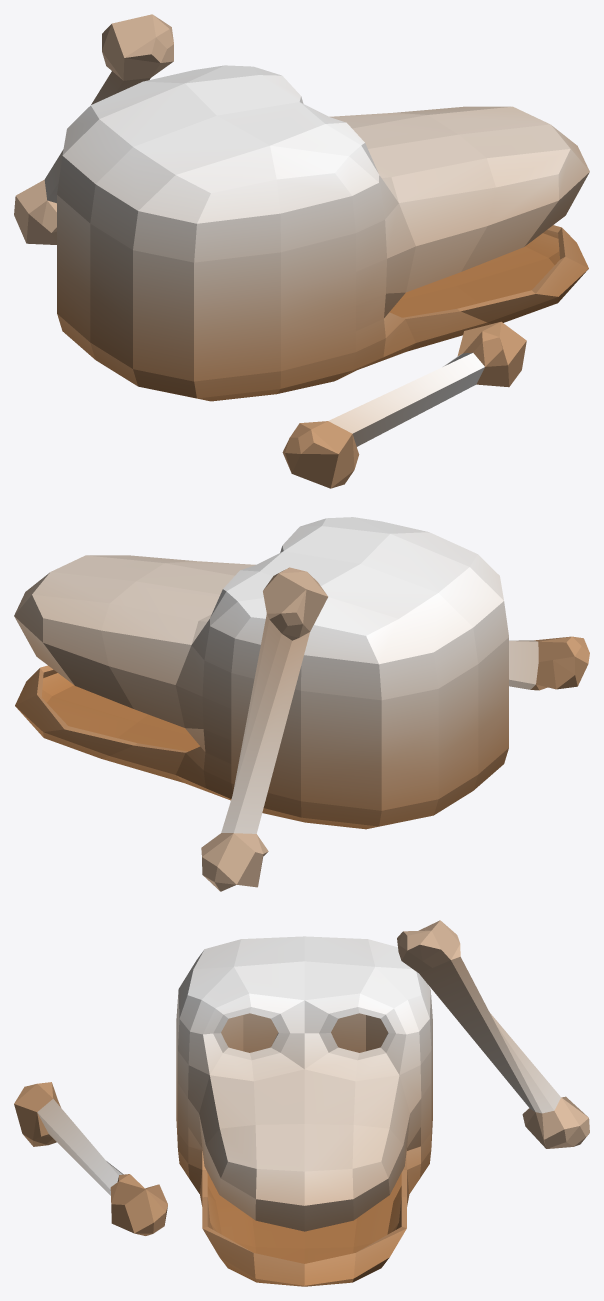
3 views of the same model, one above another, from view 1: azimuth 30°, elevation 25°; view 2: azimuth 150°, elevation 25°; view 3: azimuth 270°, elevation 25° (orthographic). The views are drawn at different scales.
Visible parts, largest first — view 1: Cube, Cylinder.001, Cylinder; view 2: Cube, Cylinder, Cylinder.001; view 3: Cube, Cylinder, Cylinder.001.
Part boxes in pixels (x1=…): Cube: x1=57, y1=65, x2=589, y2=401; Cylinder.001: x1=282, y1=321, x2=526, y2=488; Cylinder: x1=14, y1=14, x2=173, y2=244; Cube: x1=14, y1=517, x2=508, y2=829; Cylinder: x1=201, y1=567, x2=327, y2=891; Cylinder.001: x1=509, y1=636, x2=589, y2=690; Cube: x1=176, y1=936, x2=432, y2=1286; Cylinder: x1=397, y1=920, x2=589, y2=1148; Cylinder.001: x1=14, y1=1082, x2=167, y2=1235.
Bounding box in the file's own units: 429 × 238 × 528.
Materials: 3 (3 with a texture image).
